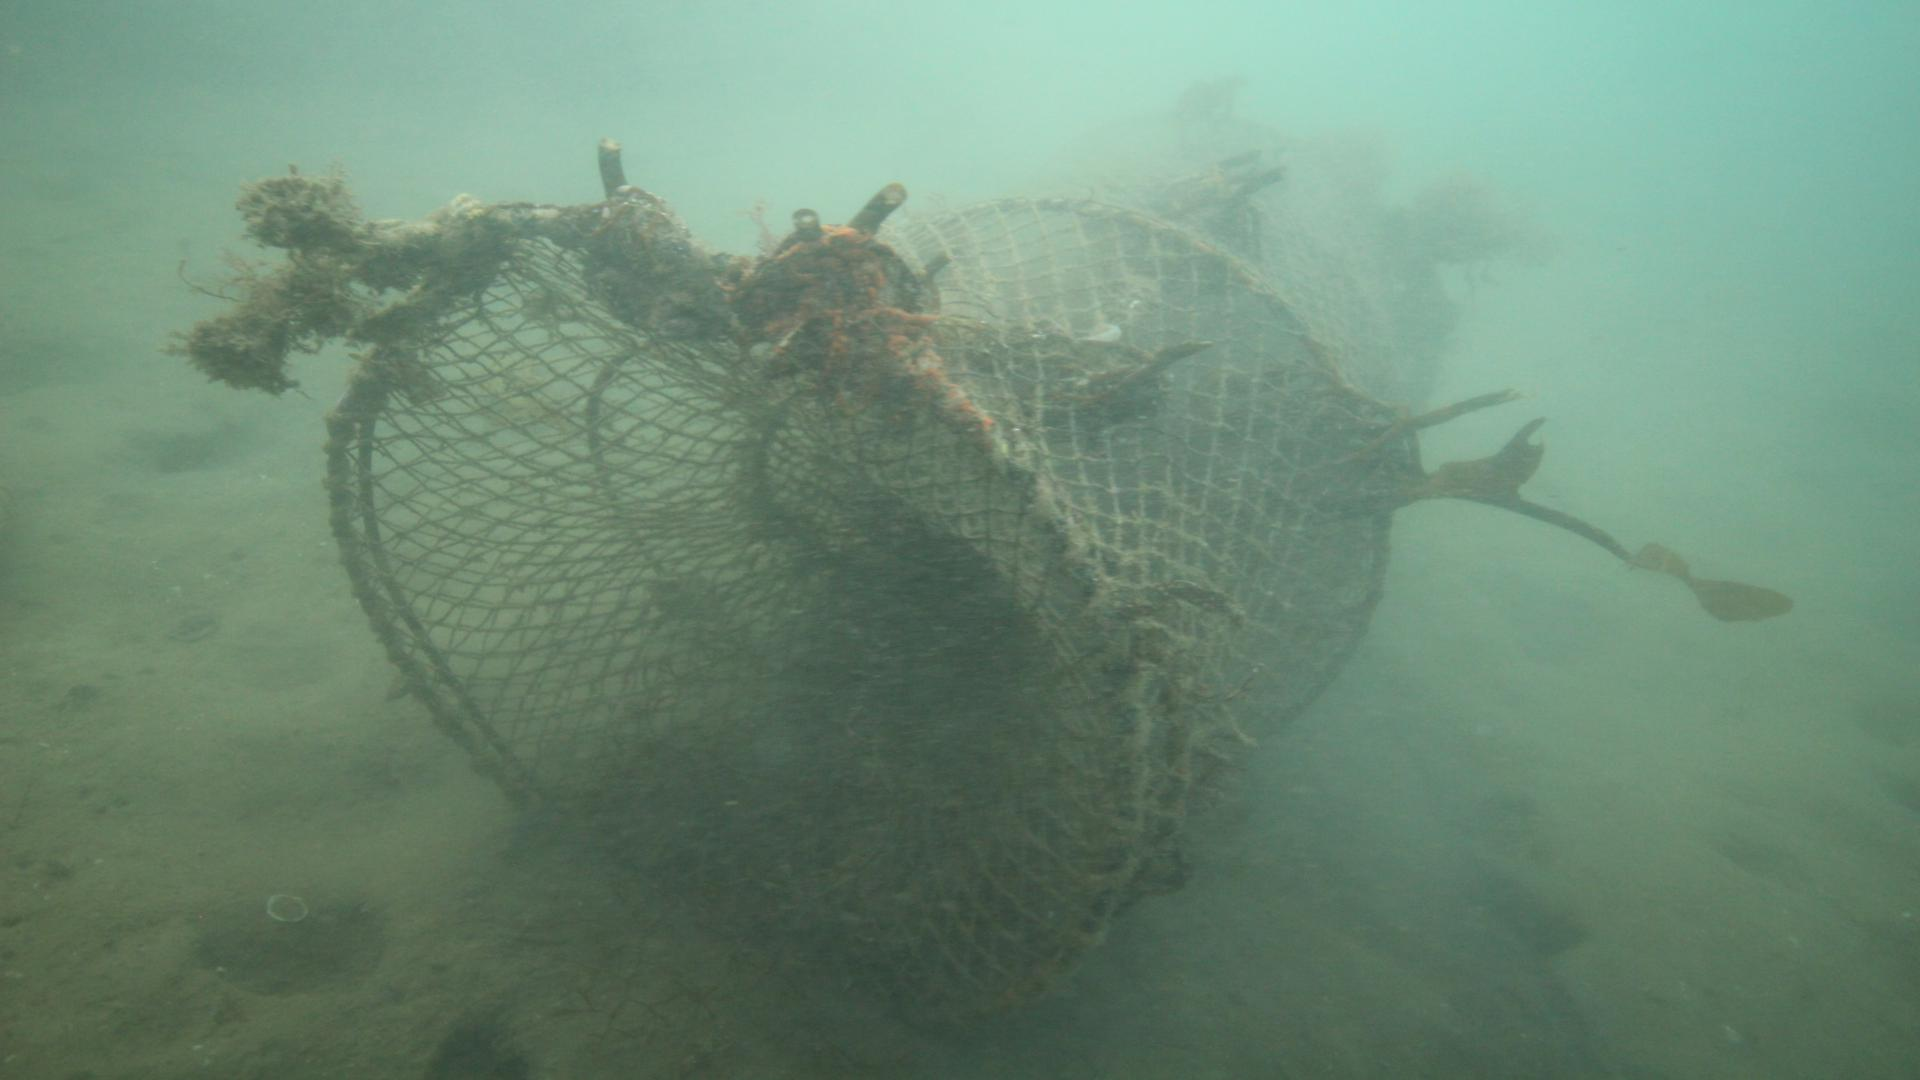spring fish trap: (320, 105, 1460, 1036)
